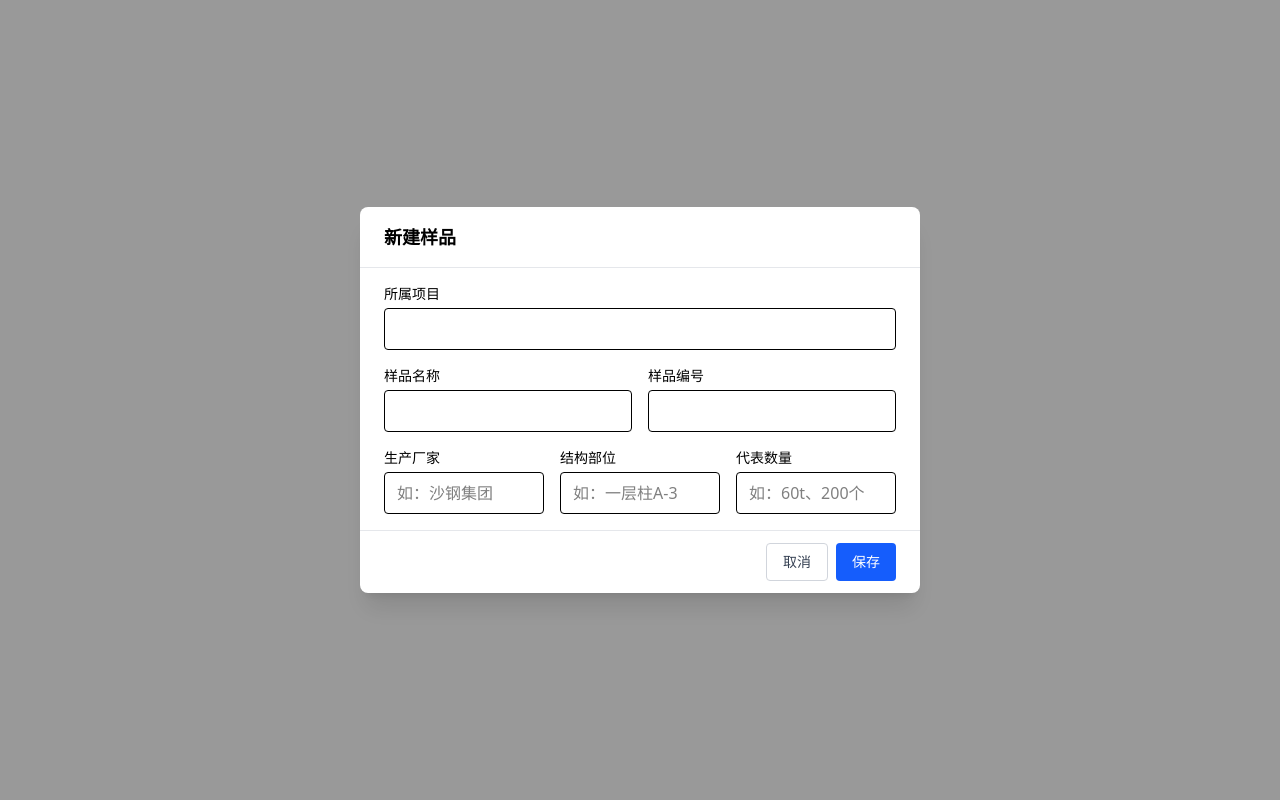
it: SampleFormModal 表单（create/edit 复用） › 必填校验: name 为空显示错误 › [fn: M03.F03.I02]
The width and height of the screenshot is (1280, 800).
Step 1. Type "p-1" into the field labelled "所属项目" → (640, 329), box x1=384 y1=308 x2=896 y2=350
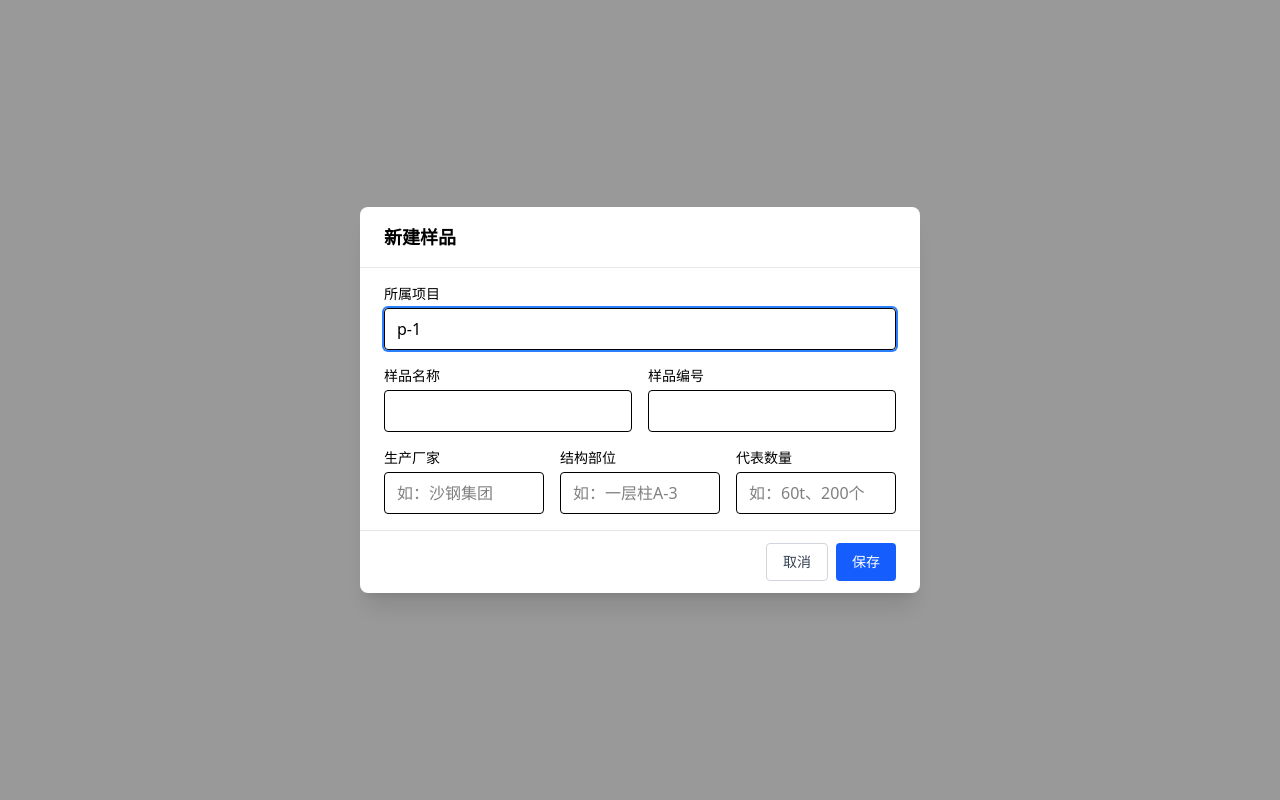
Step 2. Type "X-1" into the field labelled "样品编号" → (772, 411), box x1=648 y1=390 x2=896 y2=432
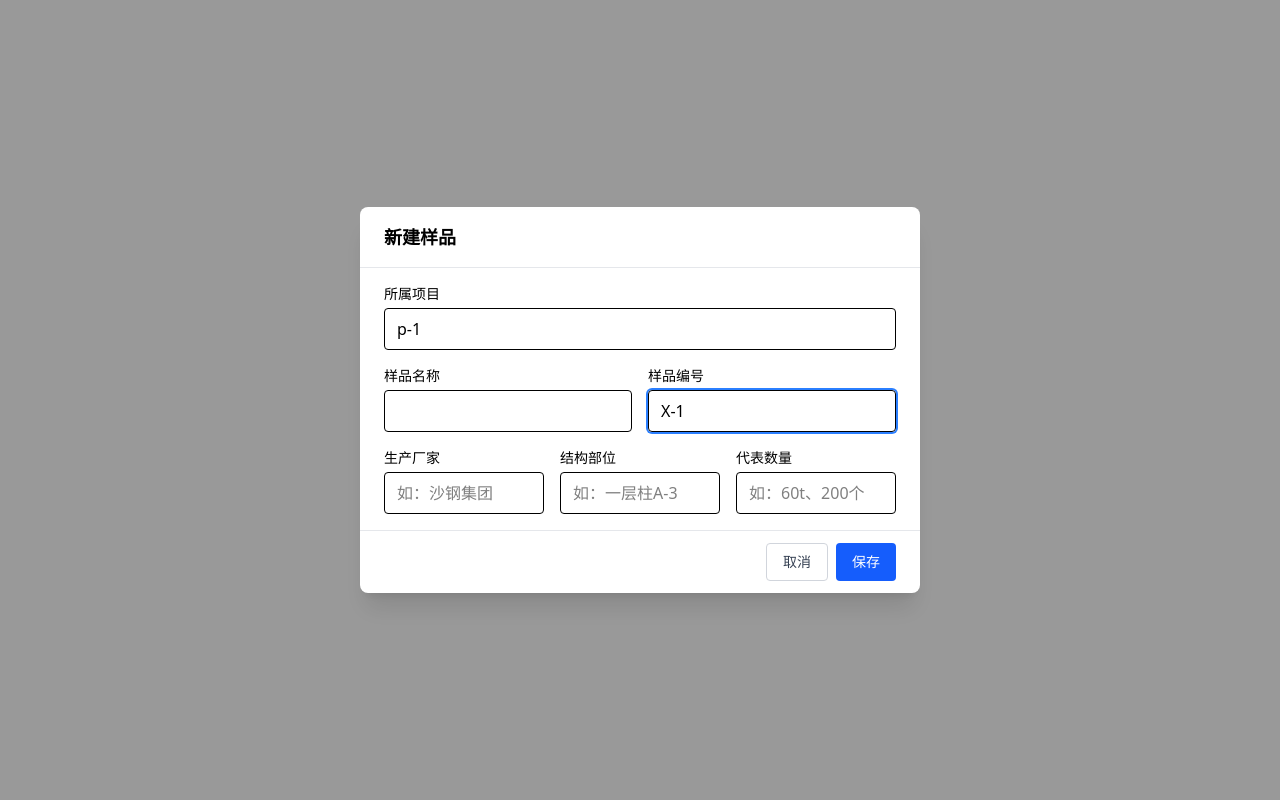
Step 3. Click the button "保存" → (866, 562), box x1=836 y1=543 x2=896 y2=581
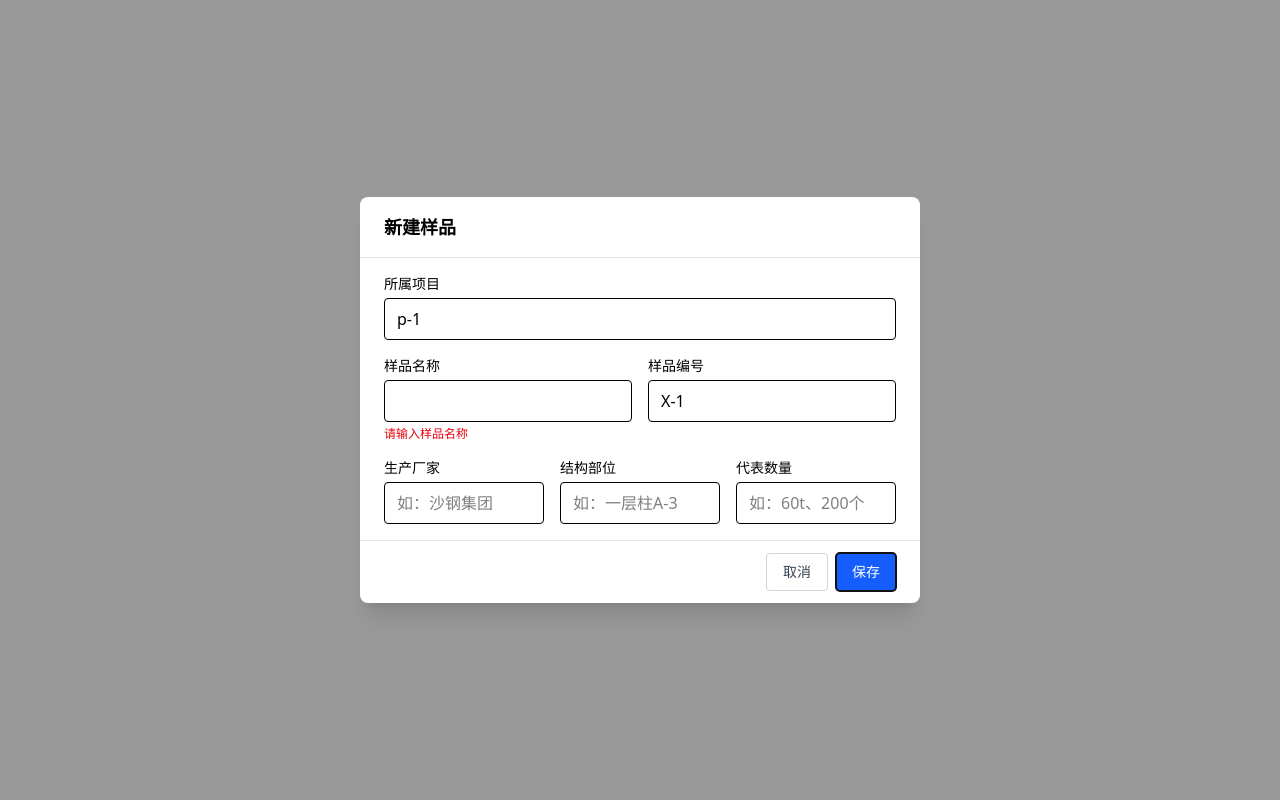
Check: the text "请输入样品名称" is shown, box x1=384 y1=425 x2=468 y2=442
